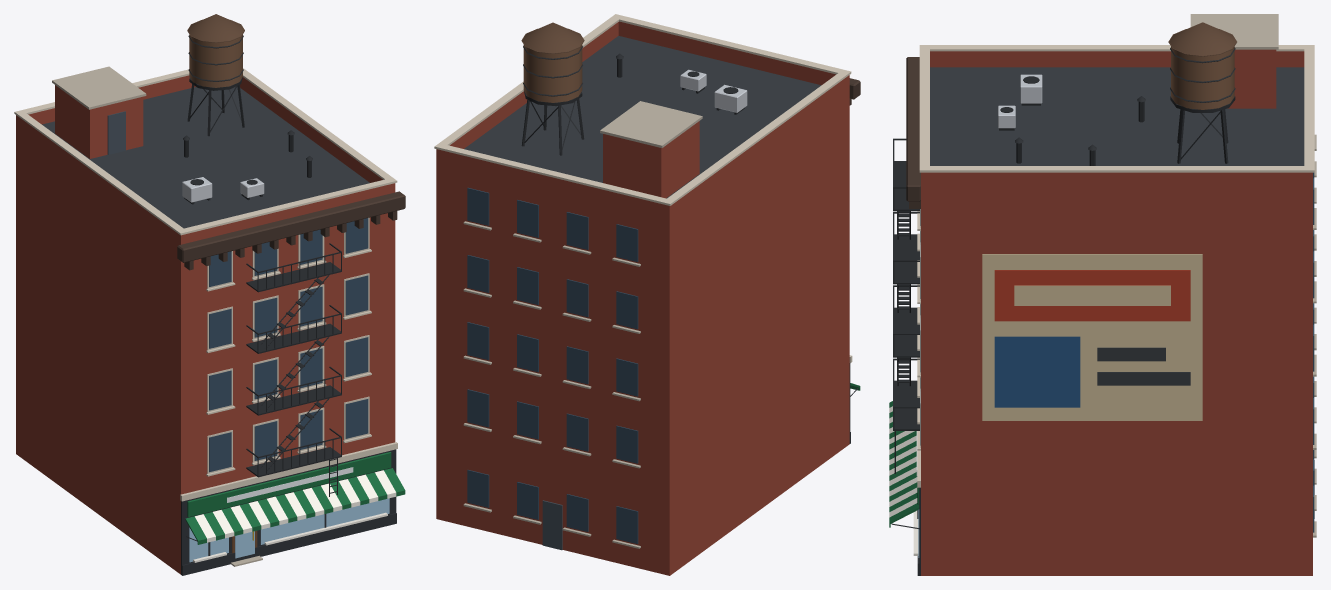
The model's file is walkup.glb.
The picture shows the model from 3 angles, left to right: view 1: azimuth 30°, elevation 25°; view 2: azimuth 150°, elevation 25°; view 3: azimuth 270°, elevation 25°; orthographic projection. The views are drawn at different scales.
Parts seen in each view (by area): view 1: walkup; view 2: walkup; view 3: walkup.
Part boxes in pixels (box(x1,y1,x2,y2)): walkup: box(14, 14, 405, 575); walkup: box(434, 14, 860, 575); walkup: box(889, 14, 1316, 575).
Bounding box in the file's own units: 12.5 × 23.36 × 17.45.
